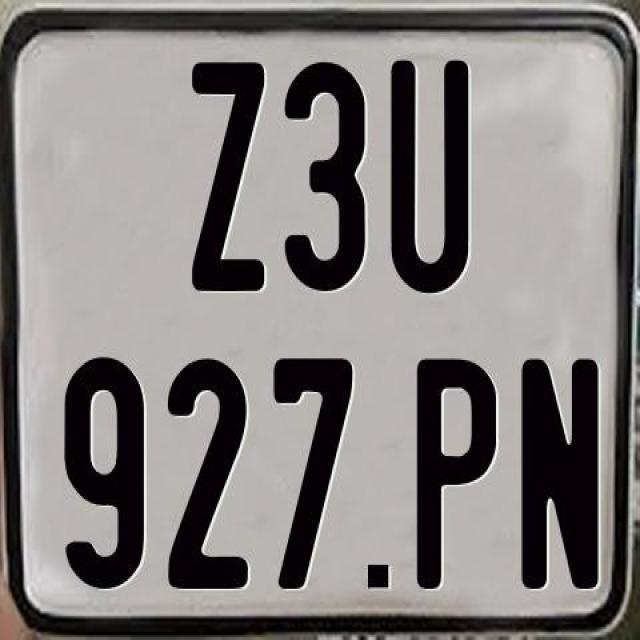2: (164, 358, 252, 590)
3: (281, 59, 364, 298)
7: (269, 358, 352, 592)
9: (60, 357, 140, 592)
N: (520, 354, 604, 590)
P: (416, 353, 499, 584)
U: (386, 58, 471, 292)
Z: (188, 58, 260, 286)
